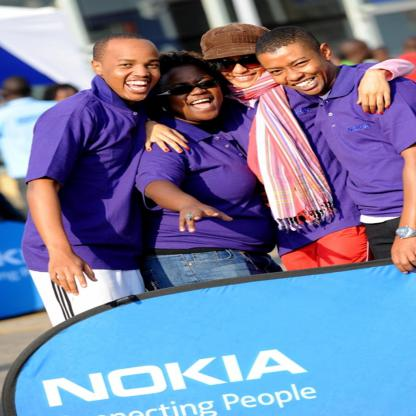face: (105, 46, 163, 104), (163, 71, 224, 122), (258, 56, 325, 95), (218, 55, 265, 89)
